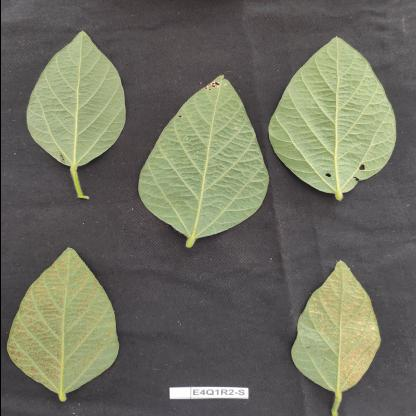label: (160, 382, 256, 404)
leaflets: (122, 69, 268, 246), (269, 31, 399, 200), (9, 239, 124, 403), (276, 257, 394, 398), (23, 28, 124, 174)
